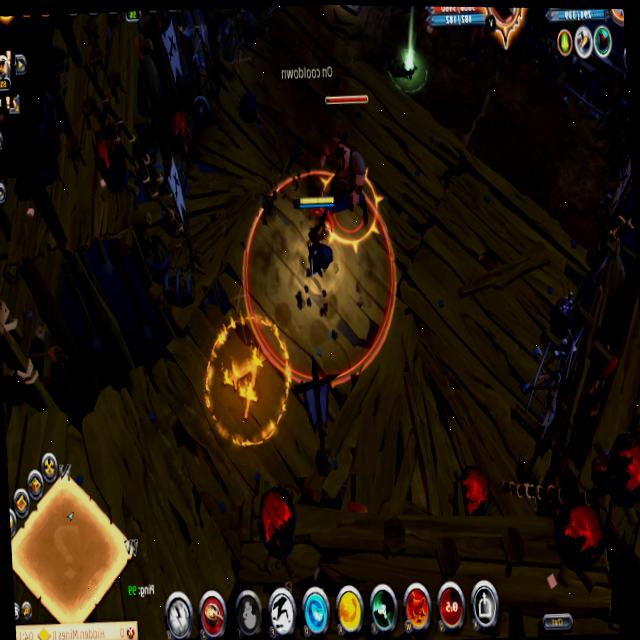ore: (312, 85, 383, 261)
red: (291, 189, 343, 293)
silver: (241, 170, 399, 386)
